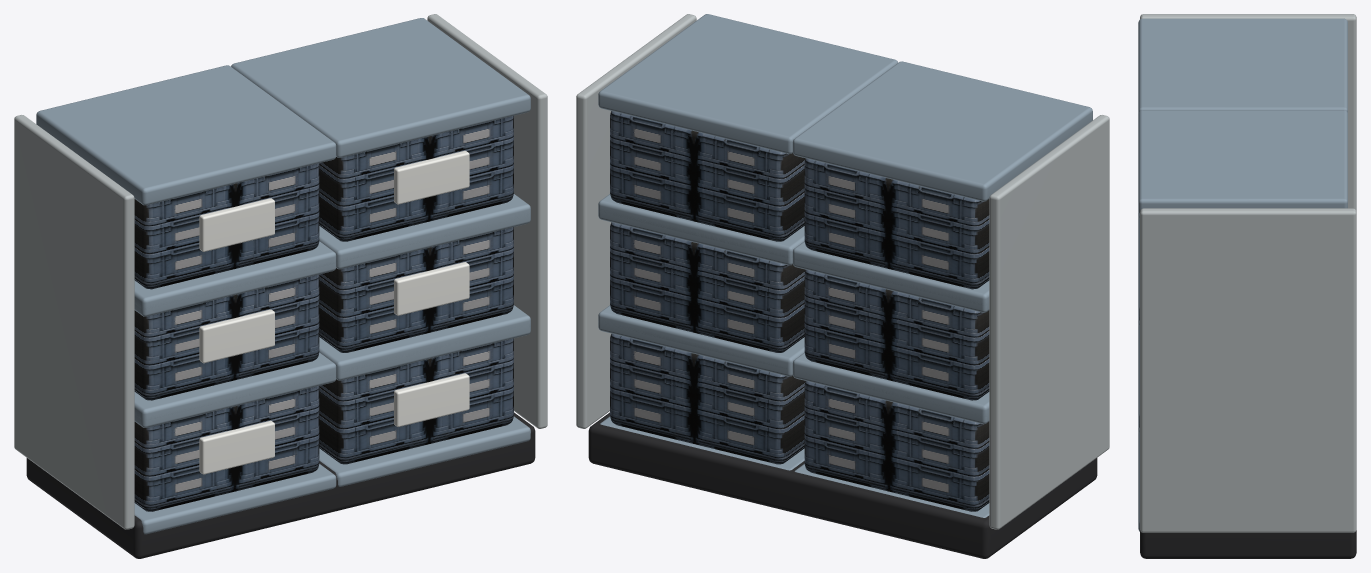
Rendered from room_l1_img2_parts_tote_stack.glb.
3 renders of one model, left to right at view 1: azimuth 30°, elevation 25°; view 2: azimuth 150°, elevation 25°; view 3: azimuth 270°, elevation 25°, orthographic. The views are drawn at different scales.
Visible parts, largest first — view 1: side_vertical_guard_-0.7, tote_3_1_upper_lip, tote_3_2_upper_lip, tote_1_2_blue_body, tote_2_2_blue_body, tote_3_2_blue_body, tote_2_1_blue_body, tote_3_1_blue_body, tote_1_1_blue_body, stack_base_pallet, side_vertical_guard_+0.7, tote_1_2_lower_lip (+15 smaller); view 2: side_vertical_guard_-0.7, tote_3_1_upper_lip, tote_3_2_upper_lip, stack_base_pallet, tote_1_2_blue_body, tote_3_2_blue_body, tote_2_2_blue_body, tote_3_1_blue_body, tote_2_1_blue_body, tote_1_1_blue_body, side_vertical_guard_+0.7, tote_3_2_lower_lip (+9 smaller); view 3: side_vertical_guard_+0.7, tote_3_2_upper_lip, tote_3_1_upper_lip, stack_base_pallet, side_vertical_guard_-0.7.
Part boxes in pixels (x1,y1,x2,y2): side_vertical_guard_-0.7: [14, 115, 134, 529]; tote_3_1_upper_lip: [36, 65, 336, 205]; tote_3_2_upper_lip: [231, 18, 530, 157]; tote_1_2_blue_body: [319, 338, 513, 464]; tote_2_2_blue_body: [319, 227, 513, 352]; tote_3_2_blue_body: [319, 116, 513, 241]; tote_2_1_blue_body: [134, 274, 319, 400]; tote_3_1_blue_body: [134, 163, 319, 289]; tote_1_1_blue_body: [134, 386, 319, 511]; stack_base_pallet: [26, 412, 535, 558]; side_vertical_guard_+0.7: [427, 14, 547, 428]; tote_1_2_lower_lip: [319, 416, 530, 486]; side_vertical_guard_-0.7: [989, 115, 1109, 529]; tote_3_1_upper_lip: [792, 61, 1092, 201]; tote_3_2_upper_lip: [598, 14, 897, 154]; stack_base_pallet: [588, 412, 1097, 558]; tote_1_2_blue_body: [610, 333, 805, 464]; tote_3_2_blue_body: [610, 111, 805, 241]; tote_2_2_blue_body: [610, 222, 805, 352]; tote_3_1_blue_body: [804, 158, 989, 289]; tote_2_1_blue_body: [804, 270, 989, 400]; tote_1_1_blue_body: [804, 381, 989, 511]; side_vertical_guard_+0.7: [576, 14, 696, 428]; tote_3_2_lower_lip: [598, 194, 804, 257]; side_vertical_guard_+0.7: [1140, 208, 1356, 532]; tote_3_2_upper_lip: [1138, 110, 1347, 214]; tote_3_1_upper_lip: [1138, 18, 1347, 113]; stack_base_pallet: [1140, 530, 1356, 558]; side_vertical_guard_-0.7: [1140, 14, 1356, 210].
Bounding box in the file's own units: 1.39 × 1.17 × 0.645.
5 materials, 1 textured.
